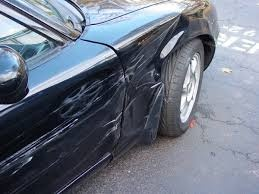Dent: (116, 25, 166, 159)
Scratch: (1, 102, 104, 178)
